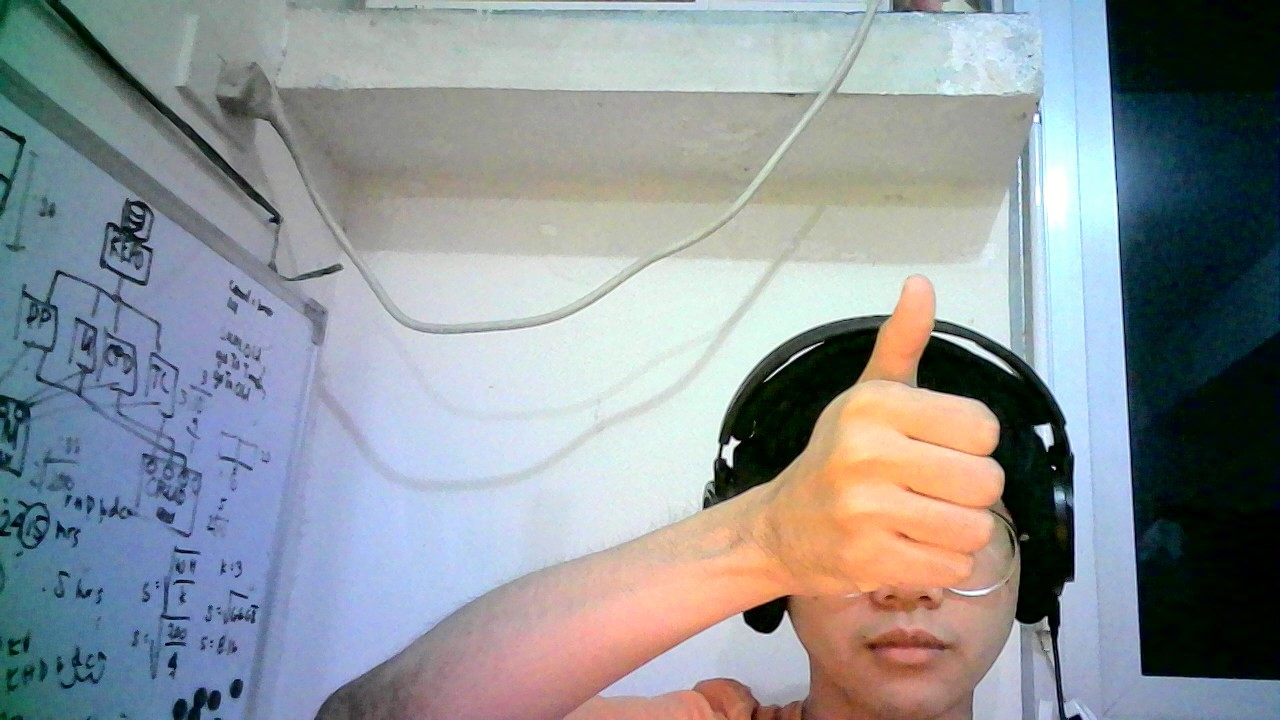thumbs_up: (764, 275, 1004, 603)
